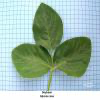Soyabean leaf: (32, 2, 64, 52), (53, 36, 91, 78), (11, 43, 52, 79)
